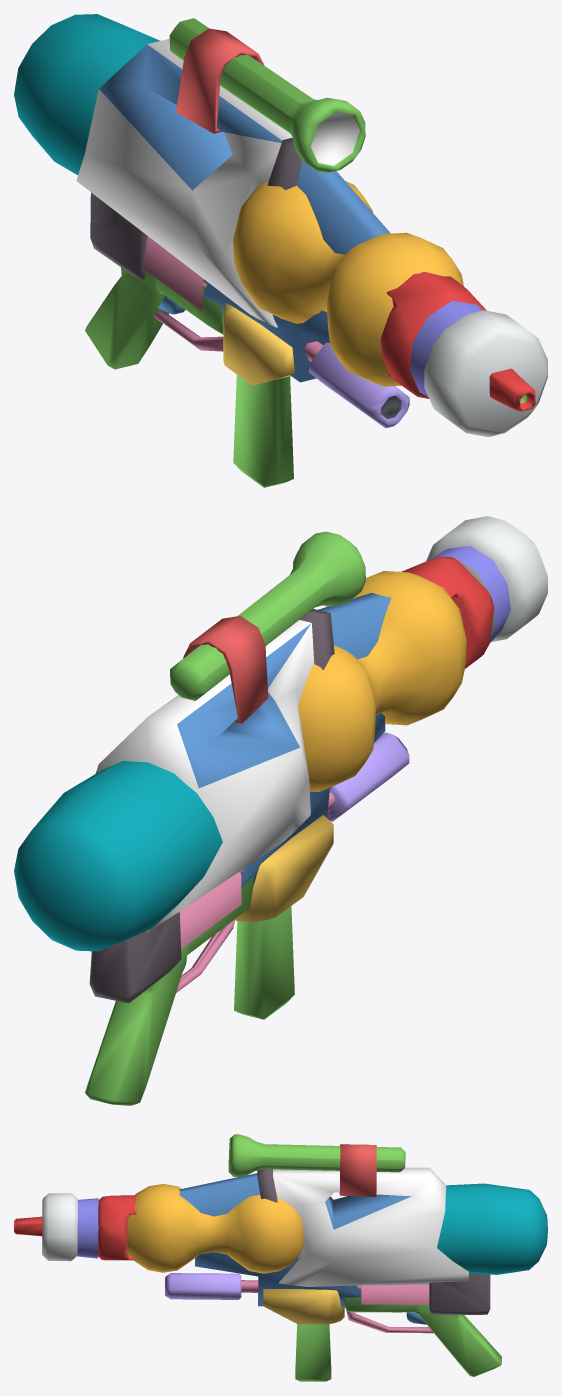
Rendered from Watergun14.fbx.
3 views of the same model, one above another, from view 1: azimuth 30°, elevation 25°; view 2: azimuth 150°, elevation 25°; view 3: azimuth 270°, elevation 25° (orthographic). The views are drawn at different scales.
Visible parts, largest first — view 1: Watergun14; view 2: Watergun14; view 3: Watergun14.
Part boxes in pixels (x1=…): Watergun14: x1=14, y1=14, x2=547, y2=487; Watergun14: x1=14, y1=516, x2=547, y2=1105; Watergun14: x1=14, y1=1134, x2=547, y2=1381.
Size of the model in its own units: 0.0806 by 0.2291 by 0.4576.
